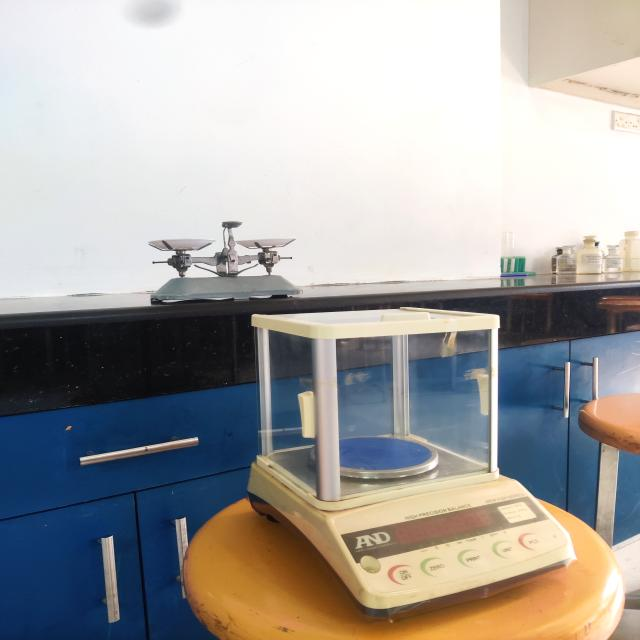Mechanical_Balance_Scale: (122, 198, 330, 309)
Precision_Weight_Scale: (226, 296, 602, 638)
